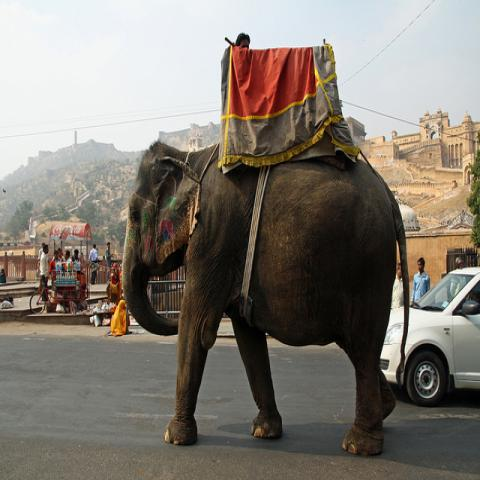car: (379, 263, 479, 409)
